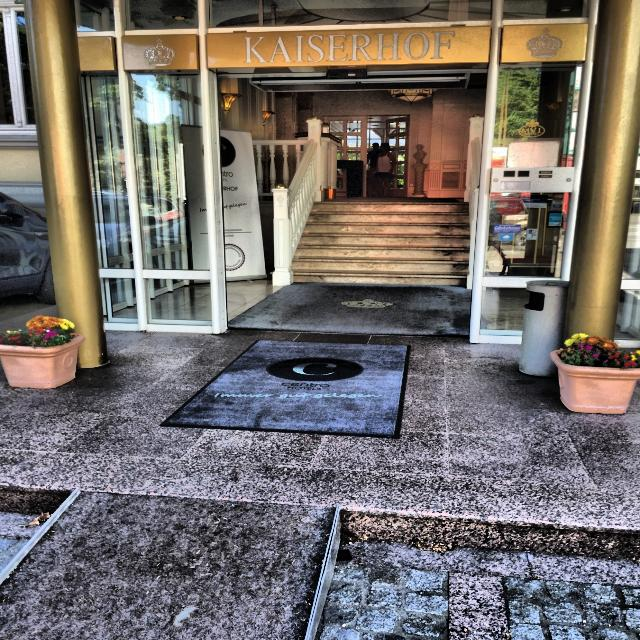escada: (295, 200, 473, 284)
